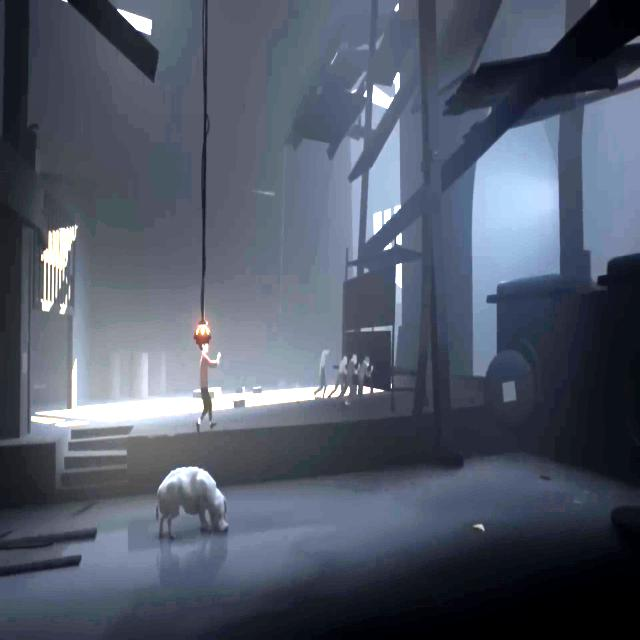boy: (197, 344, 220, 433)
interactible: (194, 324, 212, 340)
zombie: (314, 348, 330, 400), (358, 356, 374, 407), (330, 356, 348, 396), (348, 354, 358, 398)
